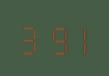nine: (42, 19, 64, 56)
one: (65, 20, 87, 56)
three: (18, 19, 40, 55)
